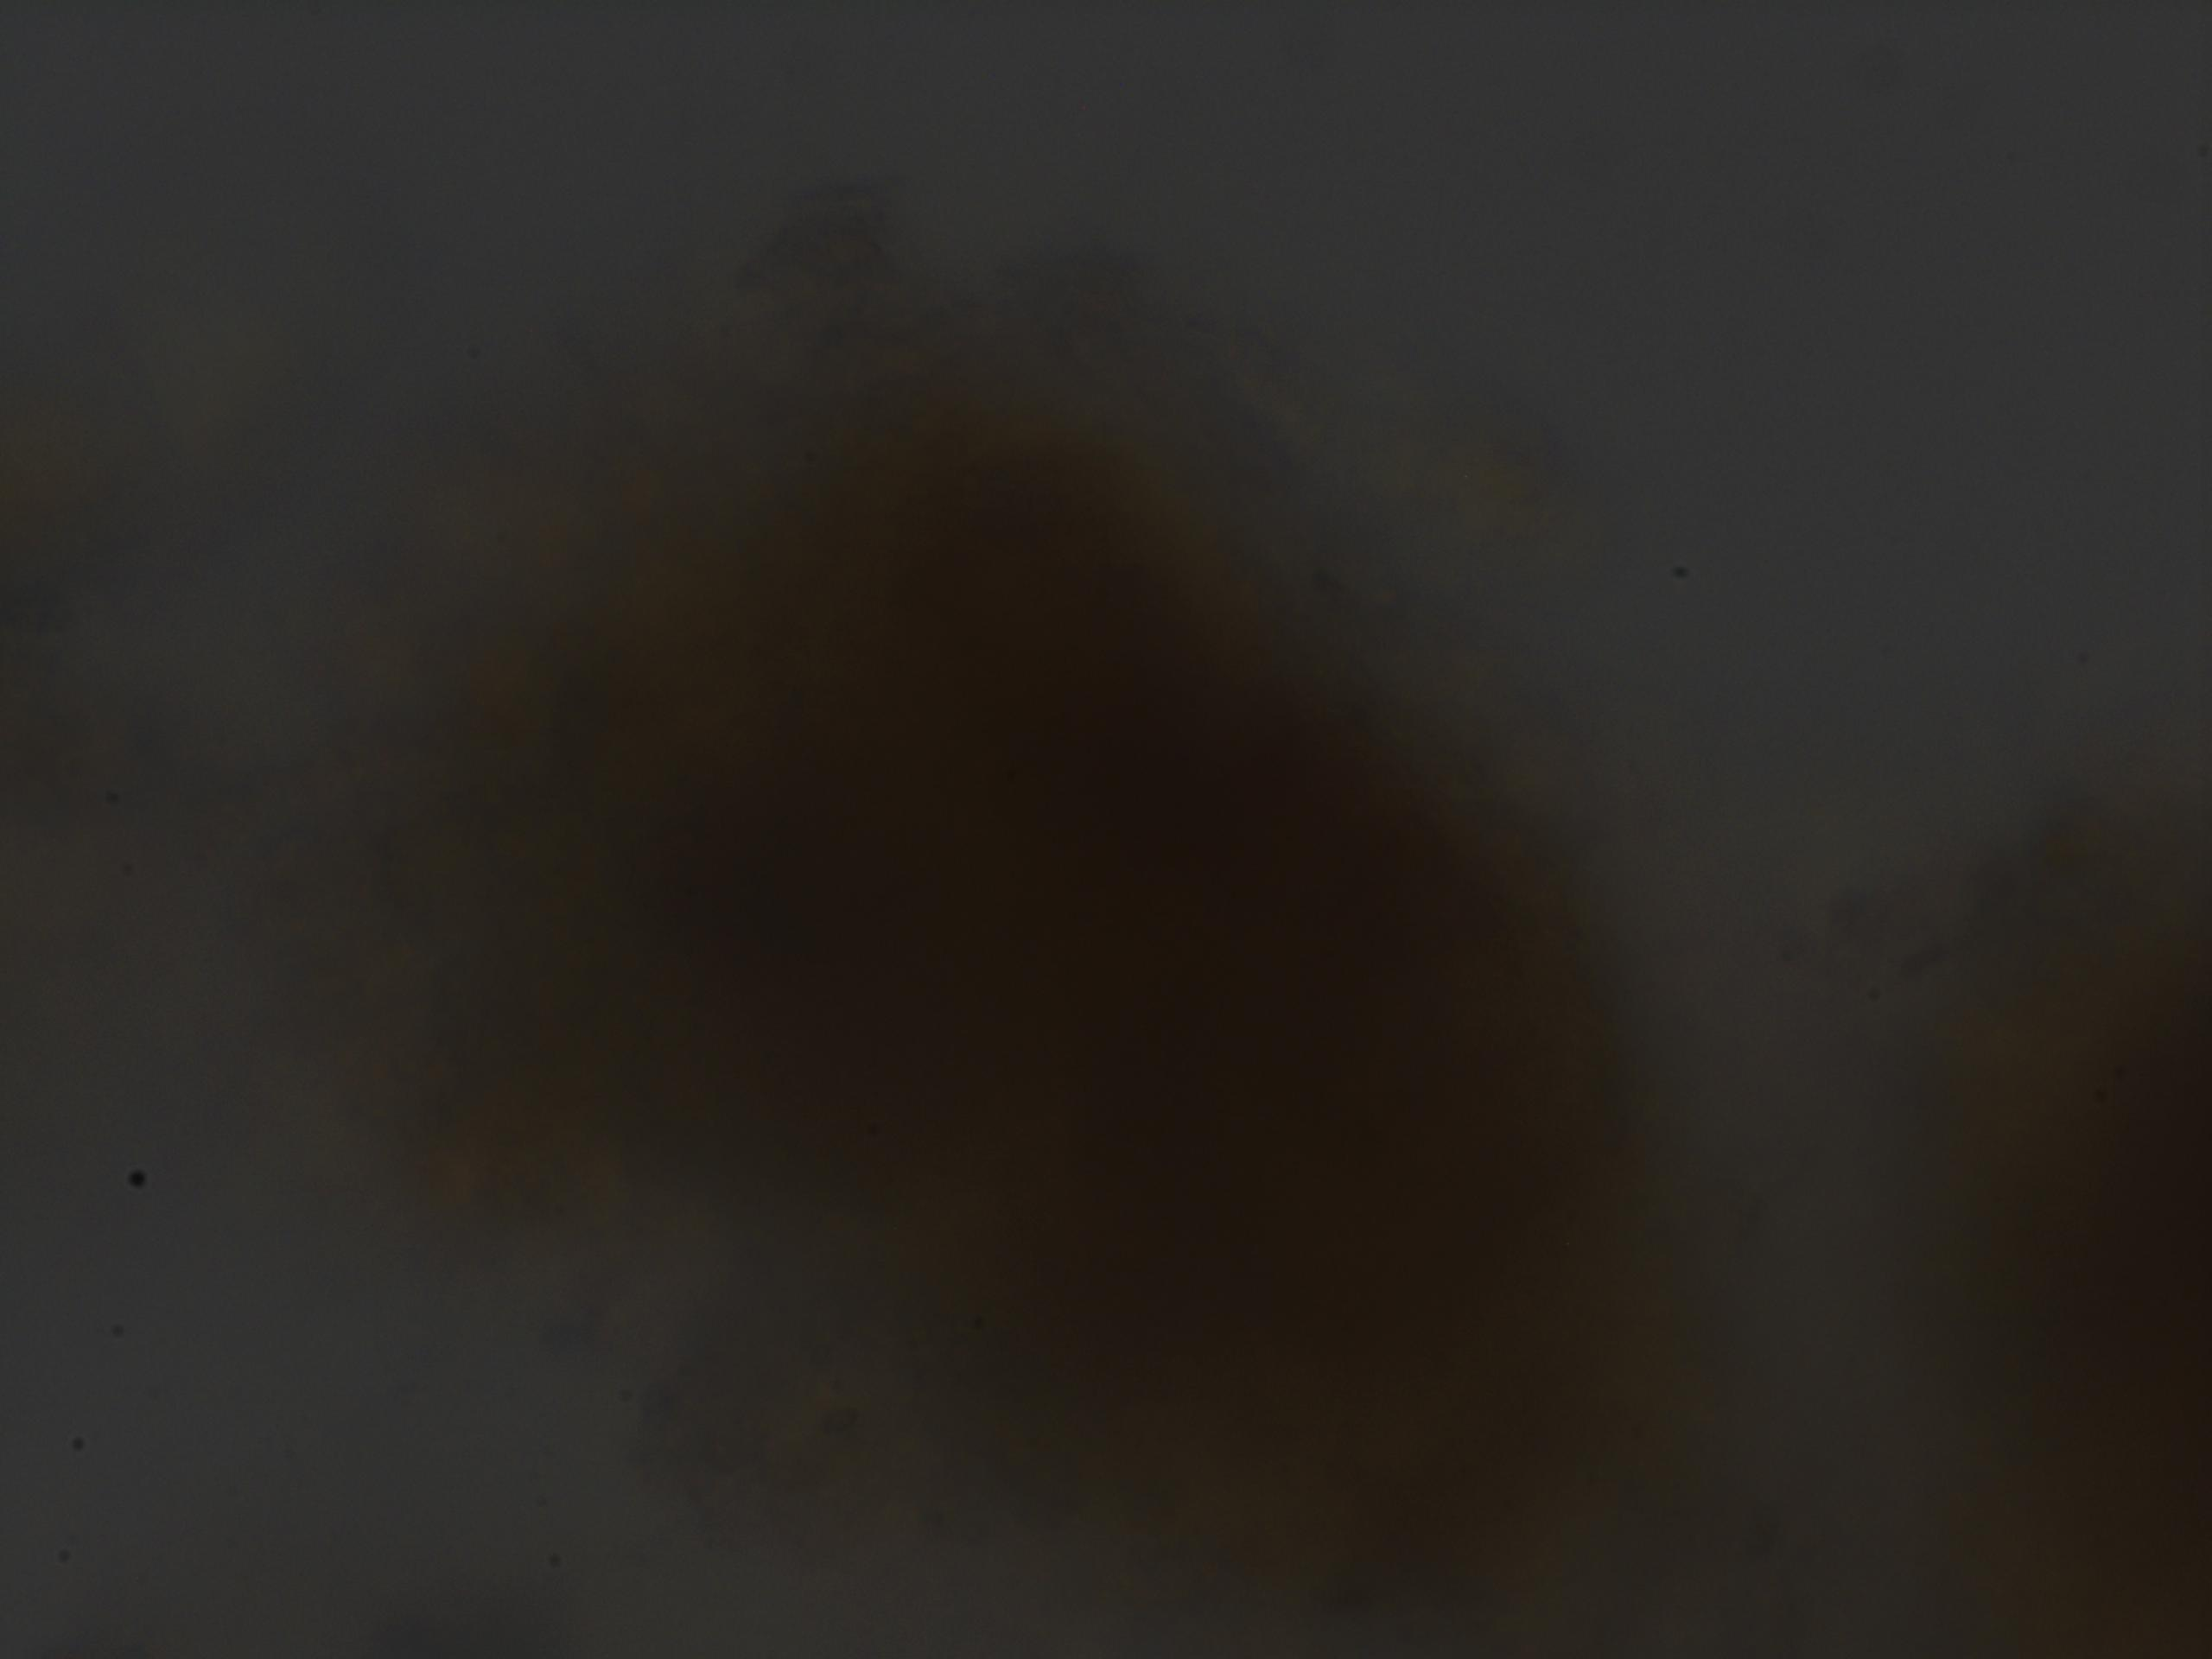spherical_floc: (322, 258, 1740, 1659)
